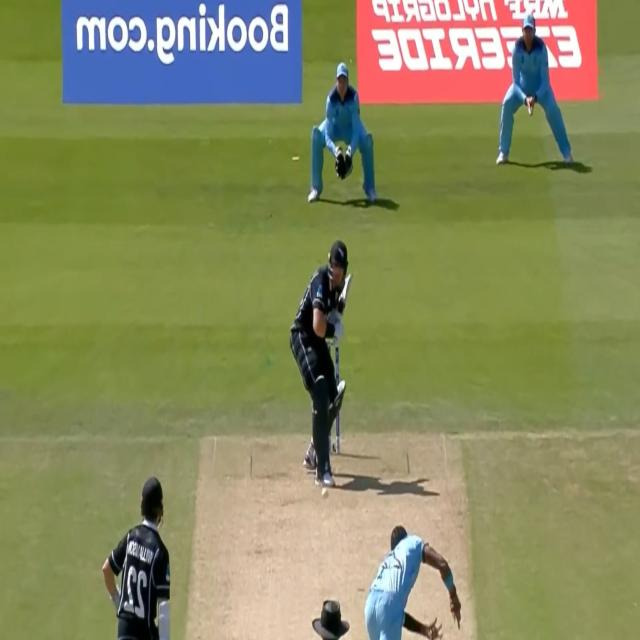ball: (317, 488, 332, 503)
